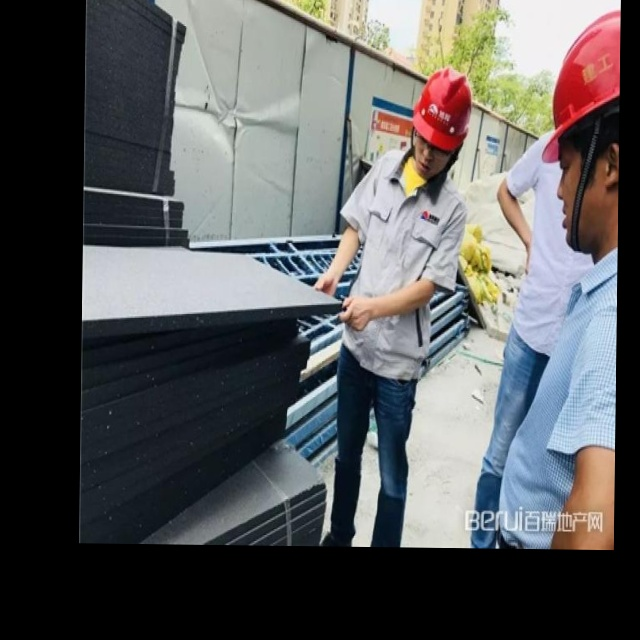Con_Casco: (410, 66, 471, 178)
